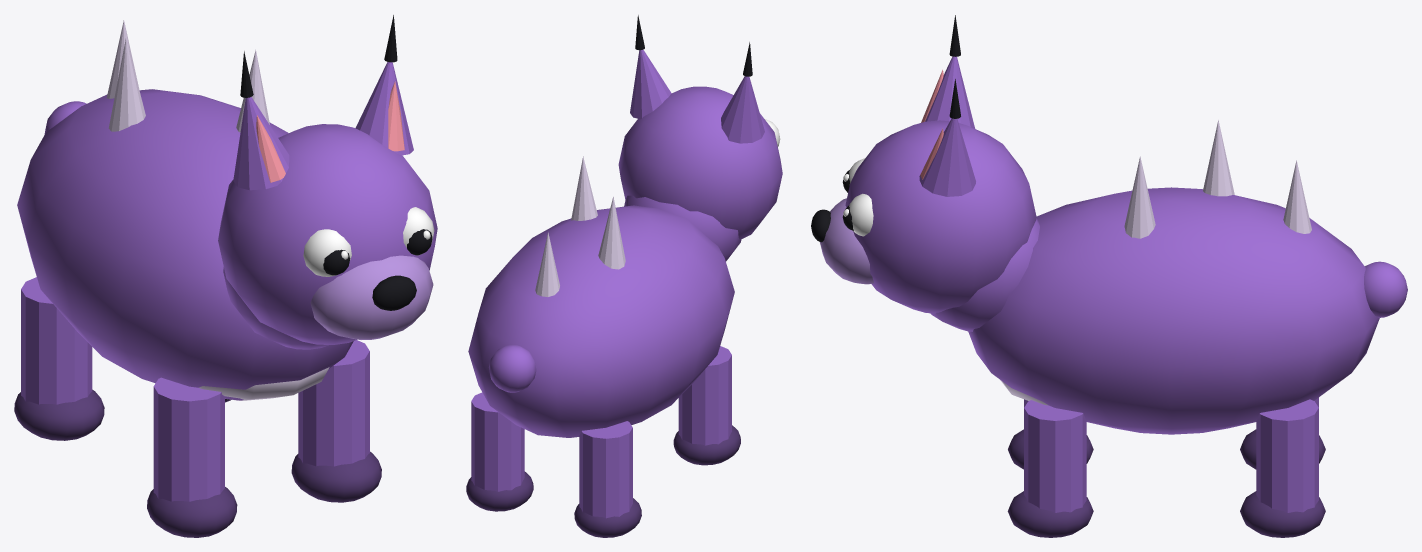
3 renders of one model, left to right at view 1: azimuth 30°, elevation 25°; view 2: azimuth 150°, elevation 25°; view 3: azimuth 270°, elevation 25°, orthographic. The views are drawn at different scales.
Parts seen in each view (by area): view 1: Amethyst Lynx; view 2: Amethyst Lynx; view 3: Amethyst Lynx.
Boxes of the visible parts, x1,y1,x2,y2 form: Amethyst Lynx: (14, 15, 437, 537); Amethyst Lynx: (466, 15, 782, 537); Amethyst Lynx: (811, 15, 1407, 537).
Size of the model in its own units: 1.7 by 3.22 by 3.82.
Materials: 1 (1 with a texture image).
